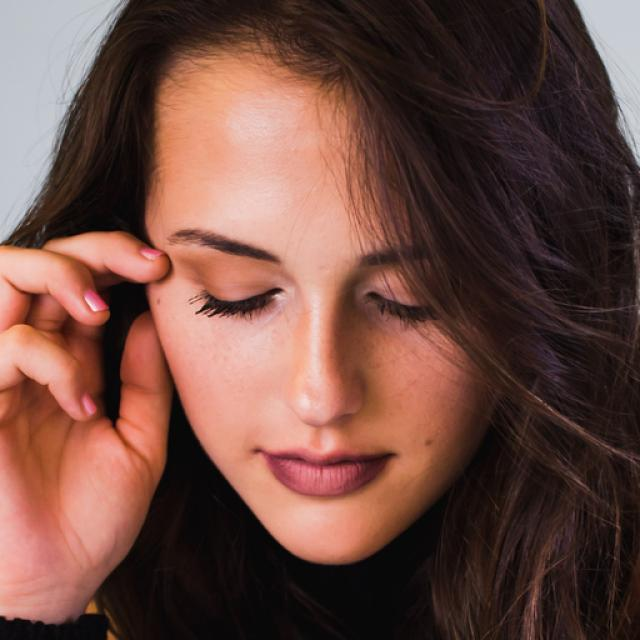neutral: (144, 35, 495, 562)
